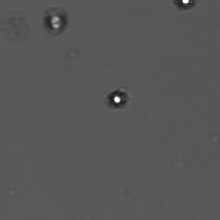Living Cell: (102, 82, 131, 118), (43, 11, 68, 32), (173, 1, 202, 11)
